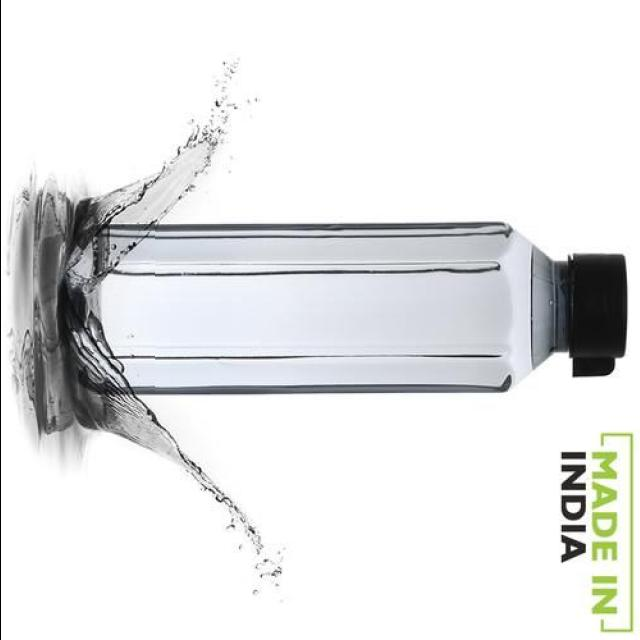bottom: (64, 225, 154, 393)
neck: (569, 255, 626, 375), (530, 246, 570, 369)
